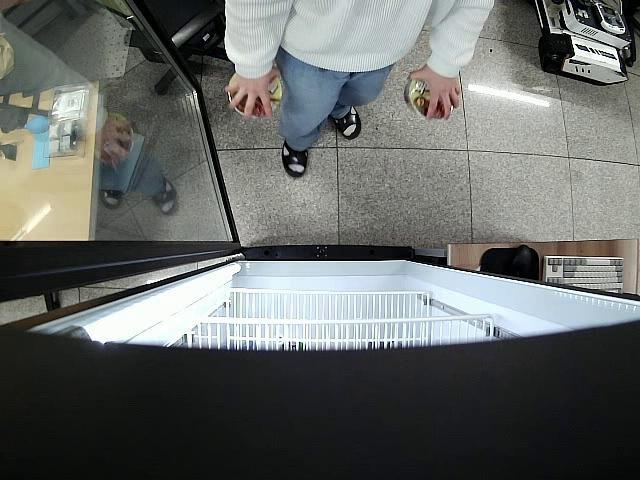03_chapagetti_L: (228, 72, 284, 118), (403, 75, 456, 121)
